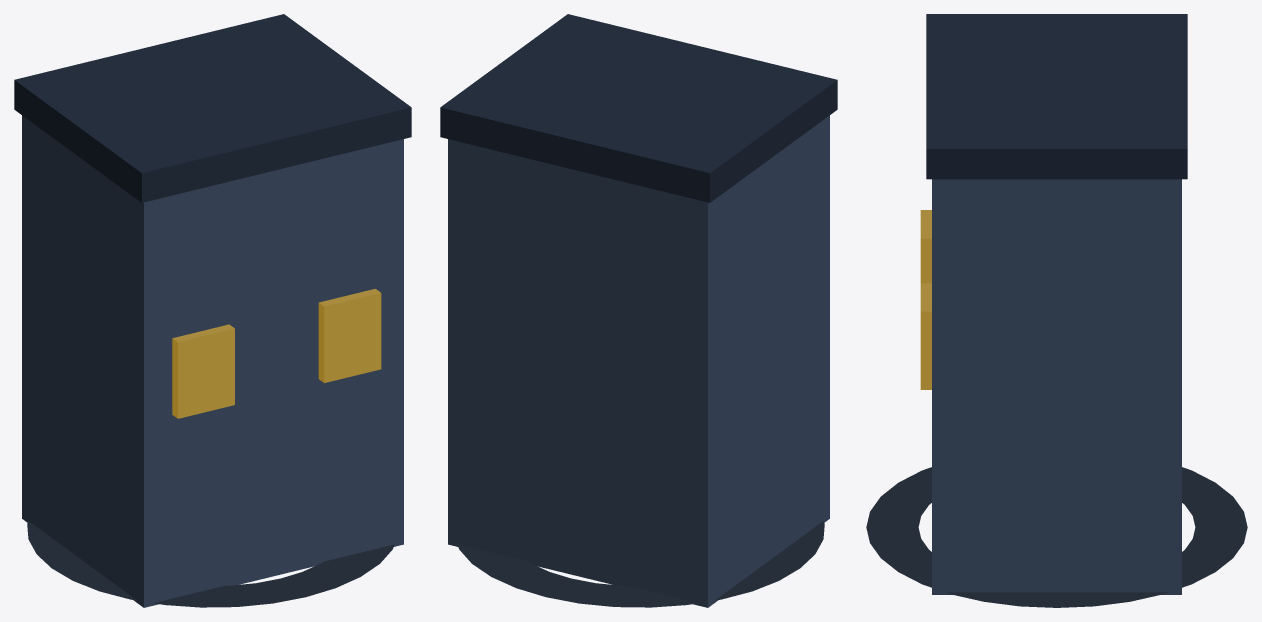
Rendered from apartment.glb.
The picture shows the model from 3 angles, left to right: view 1: azimuth 30°, elevation 25°; view 2: azimuth 150°, elevation 25°; view 3: azimuth 270°, elevation 25°; orthographic projection. The views are drawn at different scales.
Visible parts, largest first — view 1: apartment; view 2: apartment; view 3: apartment.
Part boxes in pixels (x1=…): apartment: x1=14, y1=14, x2=411, y2=607; apartment: x1=440, y1=14, x2=837, y2=607; apartment: x1=866, y1=14, x2=1247, y2=607.
Bounding box in the file's own units: 3.97 × 5.15 × 3.97.
